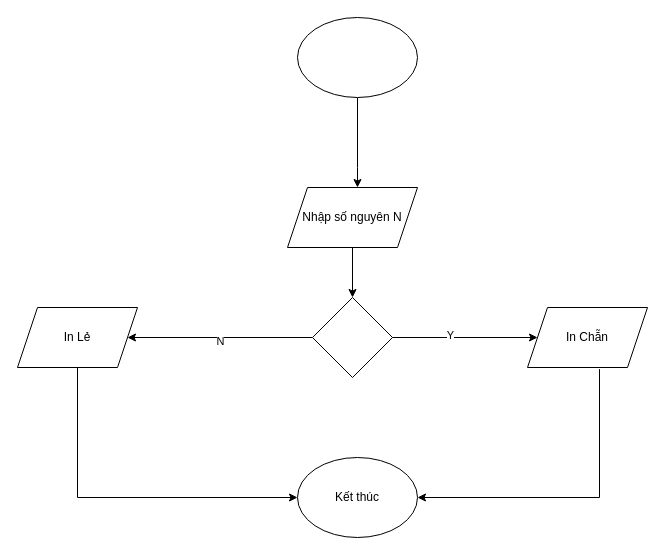
This 665x555 diagram has some shape labels left out. The shapes that lost their labels are listed below. From the top down, each one's box as (x1, y1, x2, y2) in pixels, then its label:
(296, 16, 418, 98): BẮT ĐẦU
(312, 296, 392, 378): N chia hết cho 2 ?
